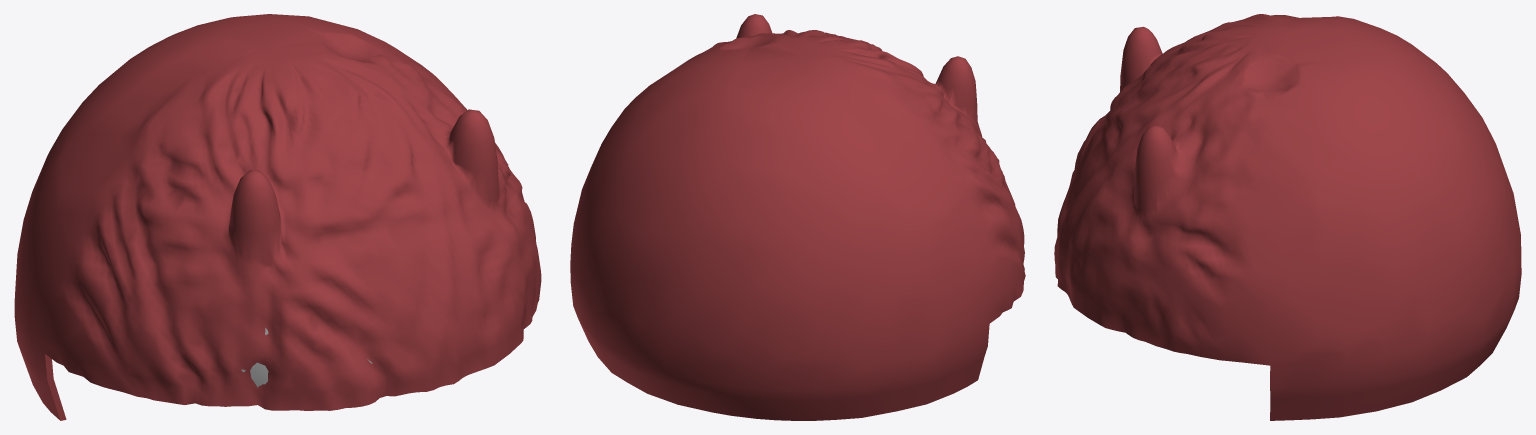
The model's file is SighCoro_pivot.obj.
The picture shows the model from 3 angles, left to right: view 1: azimuth 30°, elevation 25°; view 2: azimuth 150°, elevation 25°; view 3: azimuth 270°, elevation 25°; orthographic projection. The views are drawn at different scales.
Visible parts, largest first — view 1: SighCoro_pivot; view 2: SighCoro_pivot; view 3: SighCoro_pivot.
Part boxes in pixels (bbox=[...]): SighCoro_pivot: bbox=[14, 14, 541, 420]; SighCoro_pivot: bbox=[570, 14, 1025, 420]; SighCoro_pivot: bbox=[1054, 14, 1521, 420].
Size of the model in its own units: 90.93 by 61.41 by 89.77.
